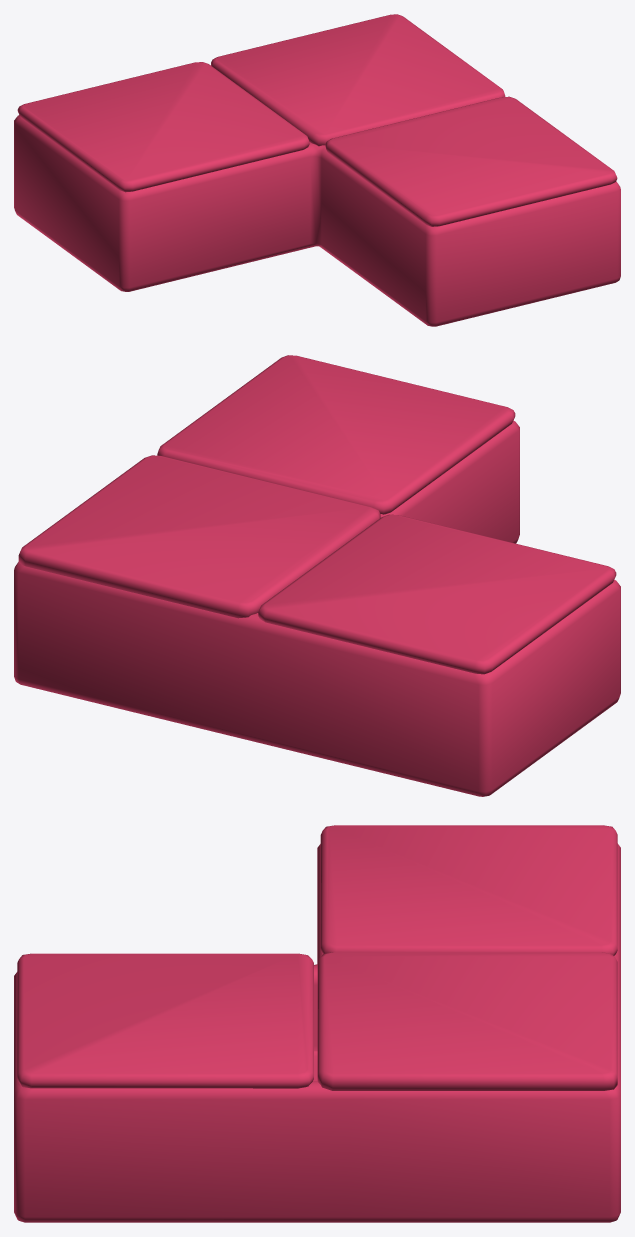
Rendered from Block-L-Pink.fbx.
3 views of the same model, one above another, from view 1: azimuth 30°, elevation 25°; view 2: azimuth 150°, elevation 25°; view 3: azimuth 270°, elevation 25° (orthographic). The views are drawn at different scales.
Visible parts, largest first — view 1: Cube.008, Block-L-Pink; view 2: Cube.008, Block-L-Pink; view 3: Cube.008, Block-L-Pink.
Part boxes in pixels (box(x1,y1,x2,y2)): Cube.008: box(17, 14, 617, 226); Block-L-Pink: box(14, 115, 620, 326); Cube.008: box(18, 355, 616, 674); Block-L-Pink: box(14, 420, 620, 796); Cube.008: box(17, 825, 617, 1090); Block-L-Pink: box(14, 843, 620, 1222).
Bounding box in the file's own units: 200 × 54.25 × 200.
